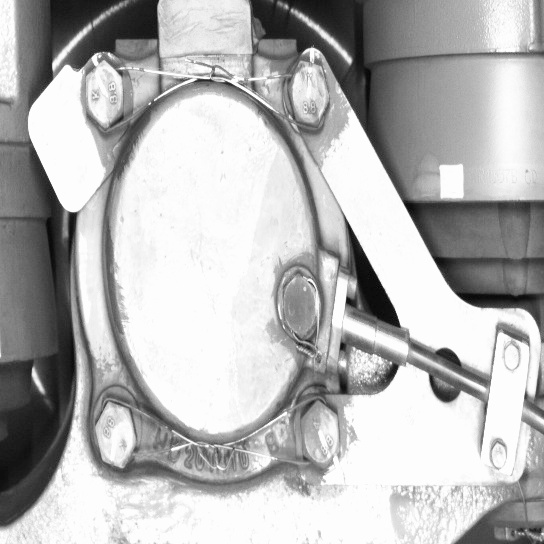IronWire: (72, 42, 339, 143), (89, 391, 347, 482)
Screw: (73, 46, 137, 137), (268, 261, 332, 351), (277, 46, 338, 140), (85, 391, 144, 480), (291, 391, 348, 473)
